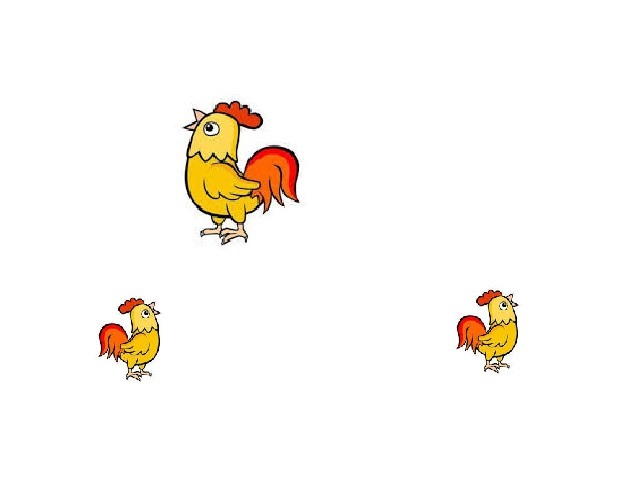crown: (215, 103, 265, 132), (474, 289, 502, 302), (118, 297, 141, 309)
eyes: (202, 121, 219, 135), (499, 299, 508, 311), (143, 310, 150, 320)
feet: (195, 214, 251, 247), (126, 368, 156, 385), (480, 360, 511, 372)
tail: (248, 145, 309, 210), (95, 321, 124, 355), (459, 315, 487, 350)
